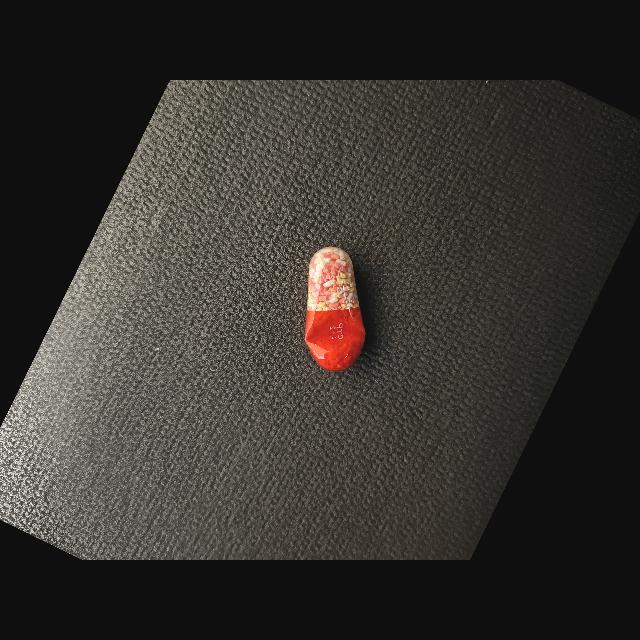Defective Capsule: (305, 246, 366, 371)
